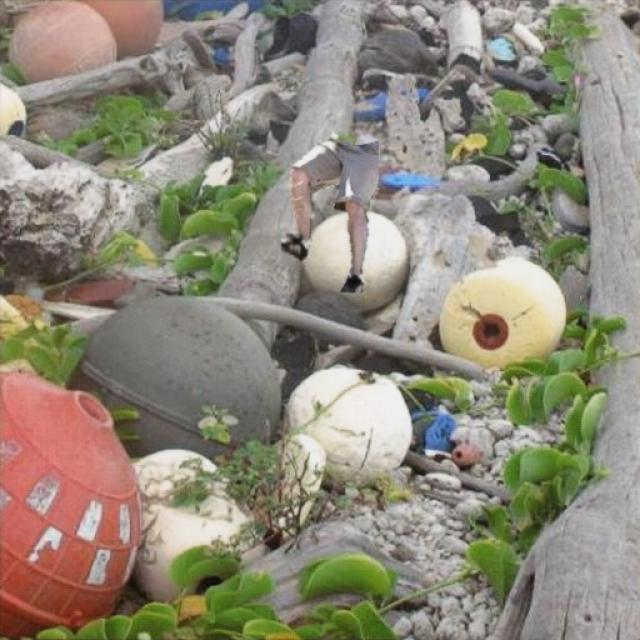Person in Rubble: (282, 132, 378, 292)
